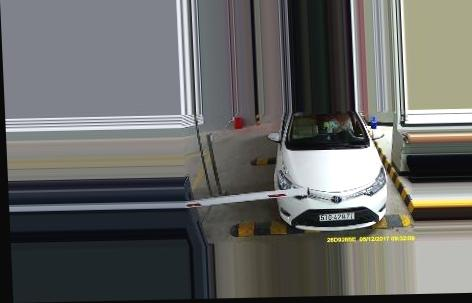License_Plate: (316, 209, 356, 223)
